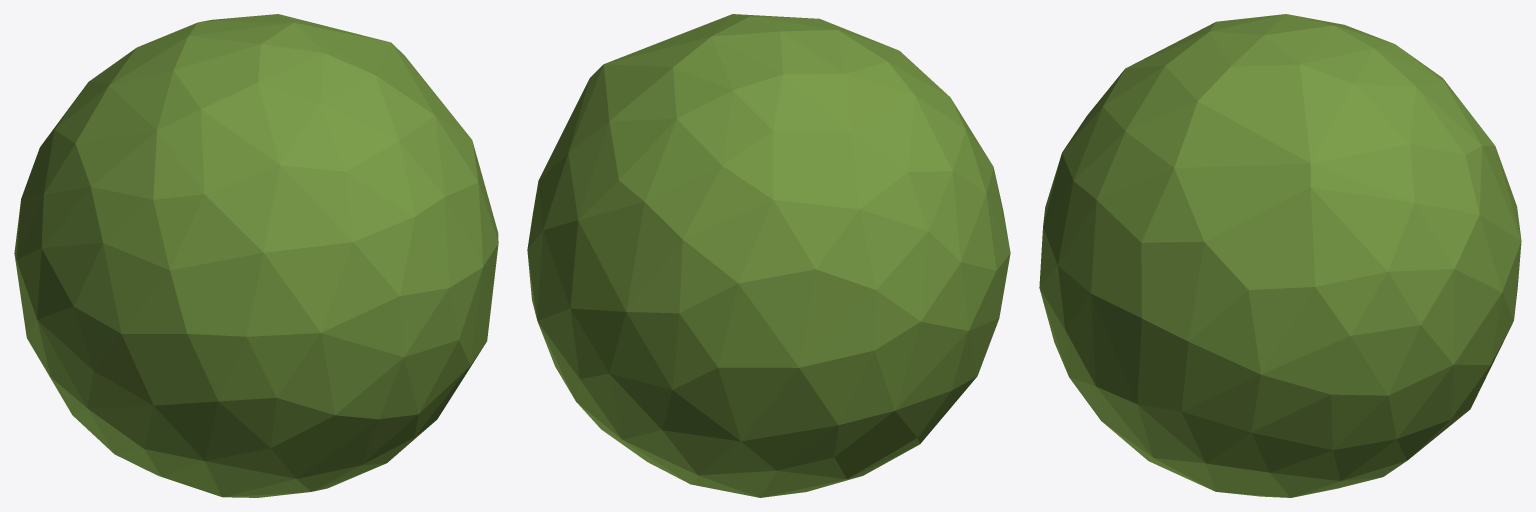
Rendered from alderaan.dae.
3 views of the same model, side by side, from view 1: azimuth 30°, elevation 25°; view 2: azimuth 150°, elevation 25°; view 3: azimuth 270°, elevation 25° (orthographic).
Parts seen in each view (by area): view 1: Icosphere; view 2: Icosphere; view 3: Icosphere.
Boxes of the visible parts, x1,y1,x2,y2 form: Icosphere: (14,14,498,497); Icosphere: (527,14,1010,497); Icosphere: (1039,14,1521,497).
Size of the model in its own units: 6.04 by 5.99 by 6.03.
